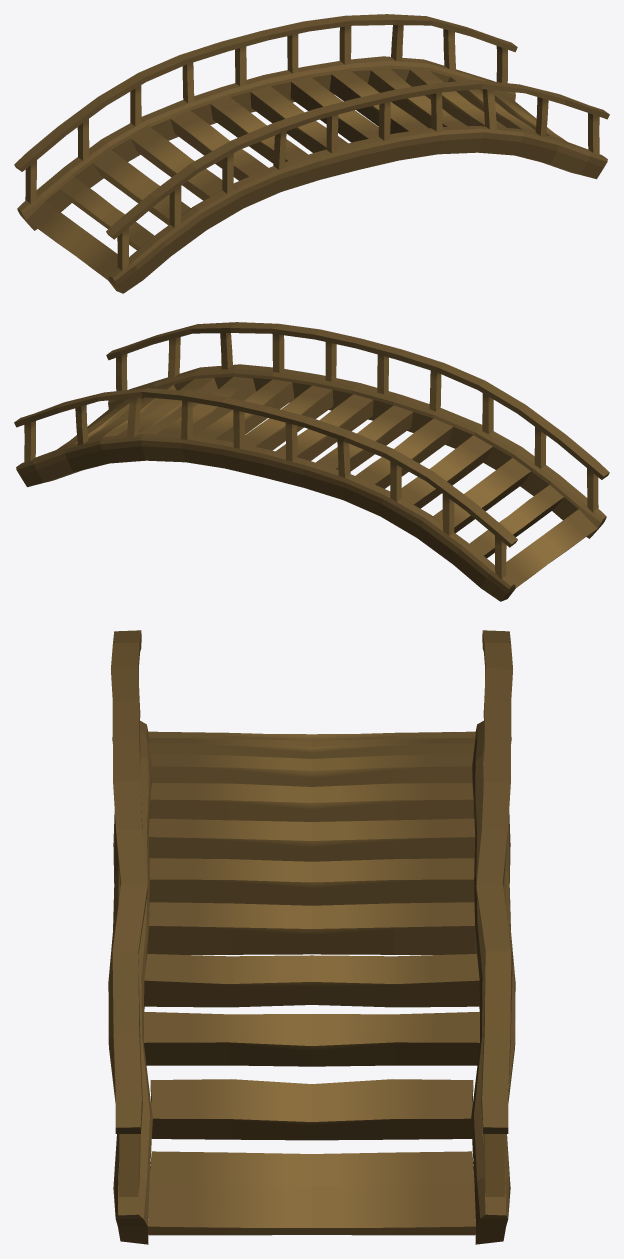
Rendered from large wooden bridge 1.fbx.
3 views of the same model, one above another, from view 1: azimuth 30°, elevation 25°; view 2: azimuth 150°, elevation 25°; view 3: azimuth 270°, elevation 25° (orthographic). The views are drawn at different scales.
Parts seen in each view (by area): view 1: wooden bridge_LOD0; view 2: wooden bridge_LOD0; view 3: wooden bridge_LOD0.
Boxes of the visible parts, left/top/right/bottom form: wooden bridge_LOD0: left=14, top=14, right=609, bottom=293; wooden bridge_LOD0: left=14, top=322, right=609, bottom=601; wooden bridge_LOD0: left=108, top=630, right=515, bottom=1244.
Size of what is drawn, in the model's own units: 38.17 by 10.02 by 13.52.
